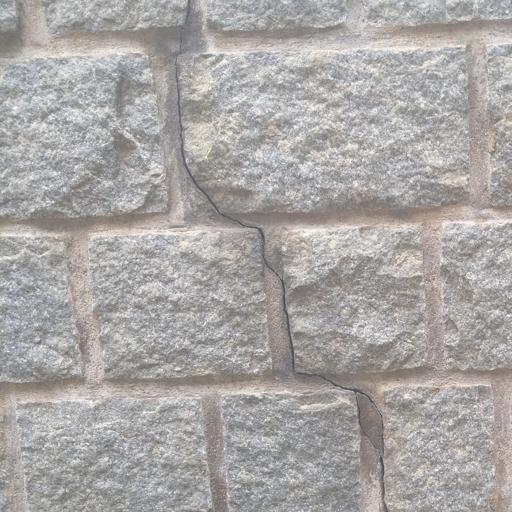major_crack: (146, 0, 400, 509)
